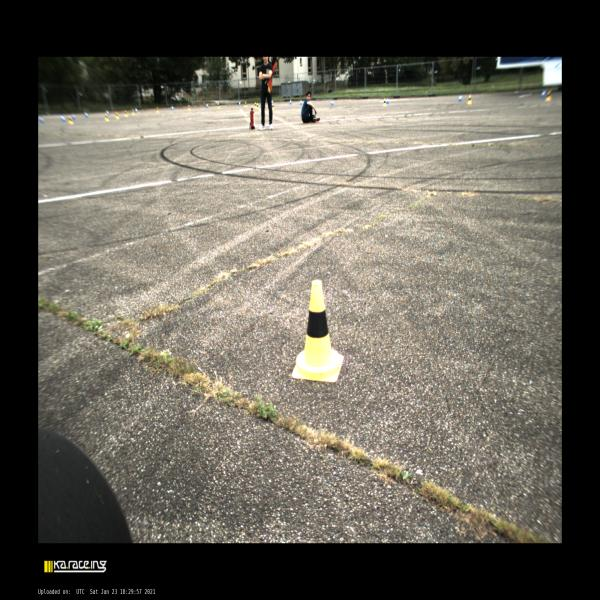blue_cone: (39, 116, 44, 123), (458, 94, 462, 102), (541, 89, 545, 97), (61, 115, 65, 122), (72, 113, 76, 120), (386, 97, 389, 104), (85, 111, 88, 117), (289, 99, 292, 105), (331, 99, 334, 105), (106, 110, 109, 115), (206, 103, 208, 109), (300, 99, 302, 105), (135, 108, 137, 113), (238, 101, 240, 106), (172, 105, 173, 110), (272, 100, 272, 104)
yellow_cone: (293, 280, 345, 381), (545, 90, 552, 101), (104, 113, 110, 121), (467, 95, 472, 104), (68, 116, 73, 125), (115, 112, 119, 120), (124, 110, 128, 117), (131, 109, 135, 116), (383, 98, 386, 107), (256, 102, 259, 110), (272, 103, 274, 111), (188, 104, 190, 111), (218, 102, 220, 109), (157, 107, 159, 113), (245, 102, 247, 108), (255, 102, 256, 108)
